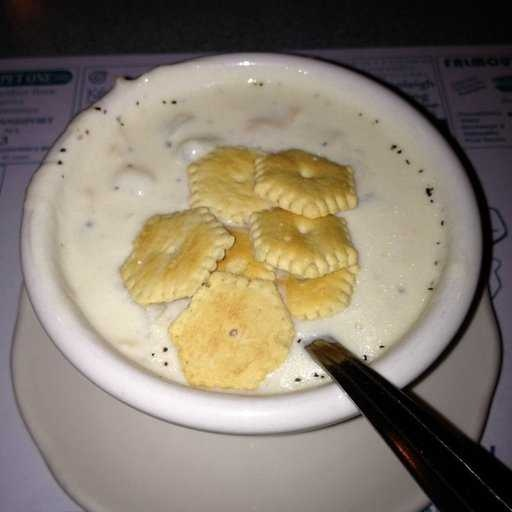soup: (54, 60, 455, 382)
